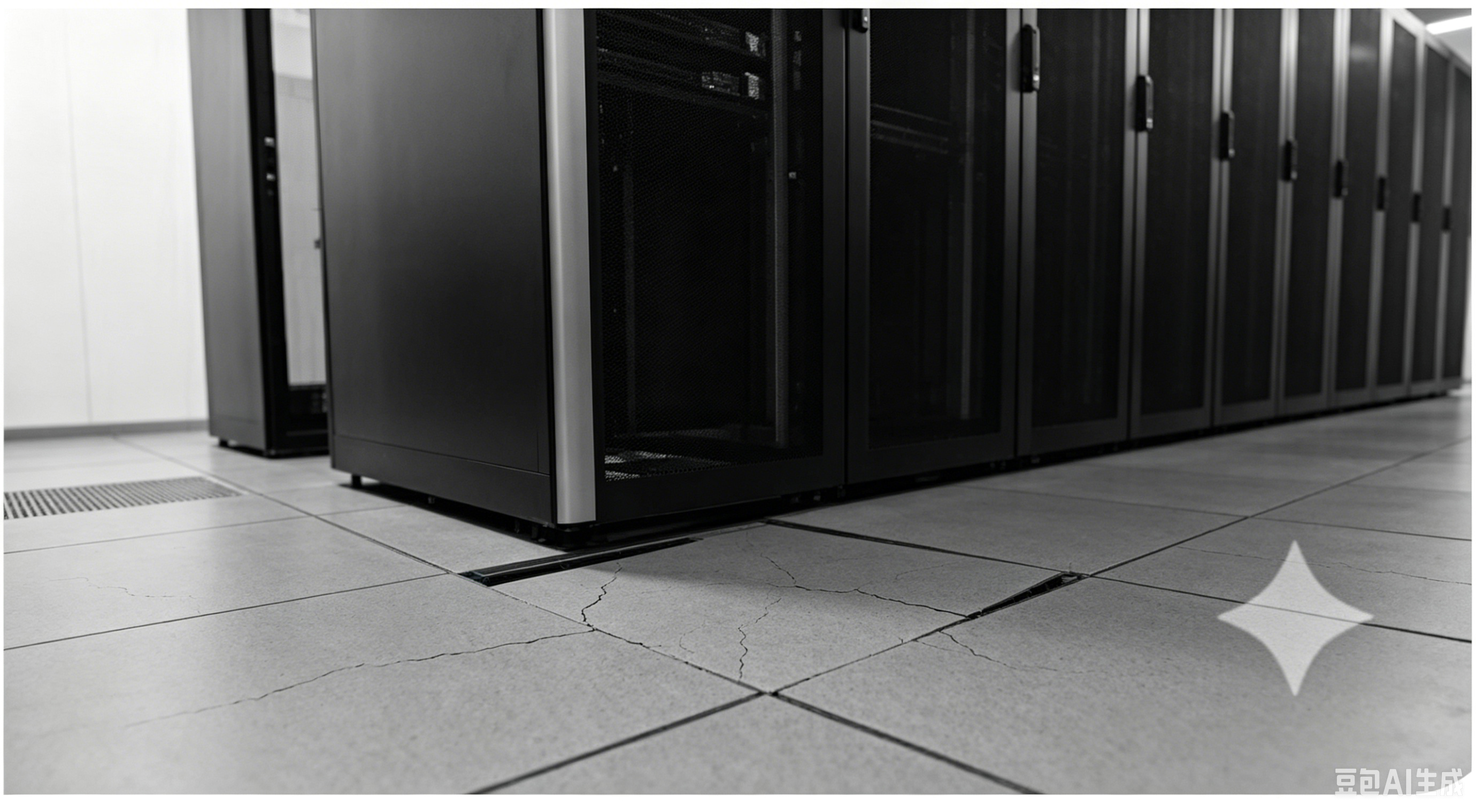floor_defect: (446, 478, 1085, 681), (221, 646, 452, 700), (135, 687, 283, 743)
